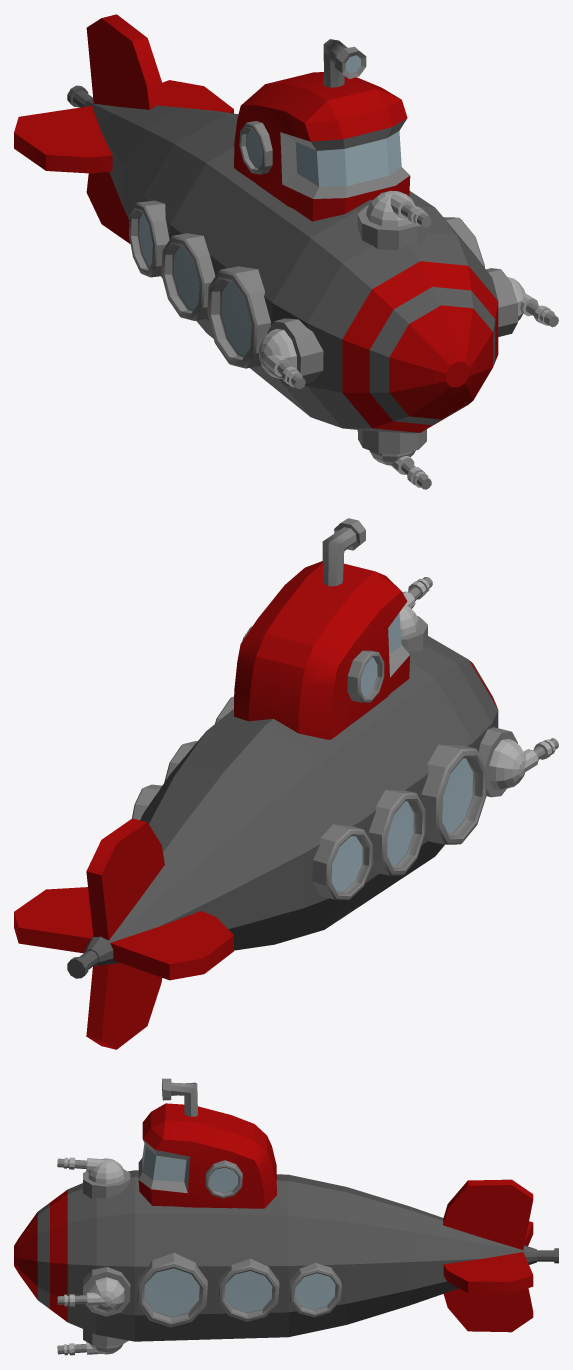
The model's file is boss 4.fbx.
The picture shows the model from 3 angles, top to bottom: view 1: azimuth 30°, elevation 25°; view 2: azimuth 150°, elevation 25°; view 3: azimuth 270°, elevation 25°; orthographic projection. The views are drawn at different scales.
Visible parts, largest first — view 1: polySurface207; view 2: polySurface207; view 3: polySurface207.
Boxes of the visible parts, x1,y1,x2,y2 form: polySurface207: (14,14,558,489); polySurface207: (14,518,558,1049); polySurface207: (14,1078,558,1355).
Size of the model in its own units: 4.39 by 6.05 by 10.85.
